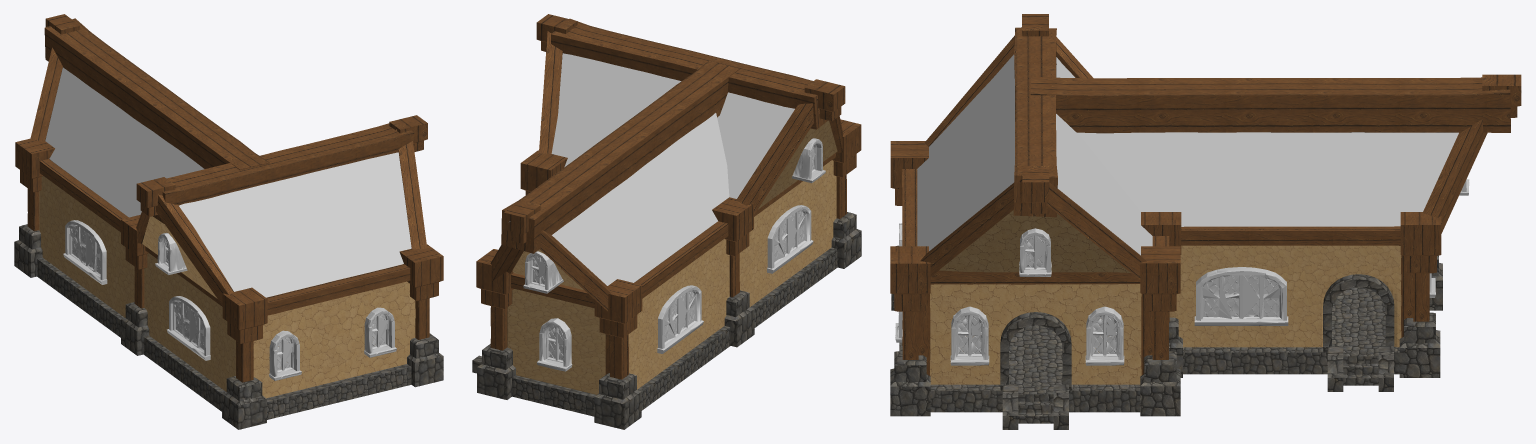
File: HouseTest2.fbx
3 views of the same model, side by side, from view 1: azimuth 30°, elevation 25°; view 2: azimuth 150°, elevation 25°; view 3: azimuth 270°, elevation 25° (orthographic). The views are drawn at different scales.
Parts seen in each view (by area): view 1: Plane, Plane.003, ClayWall.002, ClayWall.001, WoodenBeam.024, StoneFoundation, WoodenBeam.001, WoodenBeam.004, WoodenBeam.011, WoodenSupportFoundation.004, StonePillarFoundation.003, mesh_node.006 (+21 smaller); view 2: Plane.003, ClayWall.002, Plane.001, WoodenBeam.024, WoodenBeam.001, Cube.003, StoneFoundation, WoodenBeam.010, StonePillarFoundation.004, mesh_node.006, mesh_node.013, WoodenSupportFoundation.007 (+24 smaller); view 3: Plane.002, WoodenBeam.024, StoneFoundation, ClayWall, WoodenWall.004, Plane, WoodenBeam.001, ClayWall.006, Plane.001, mesh_node.015, WoodenBeam.019, WoodenBeam.025 (+30 smaller).
Boxes of the visible parts, <box> form: Plane: <box>179,152,411,297</box>; Plane.003: <box>45,67,204,217</box>; ClayWall.002: <box>39,176,235,391</box>; ClayWall.001: <box>253,281,415,398</box>; WoodenBeam.024: <box>44,18,269,170</box>; StoneFoundation: <box>37,257,411,419</box>; WoodenBeam.001: <box>153,123,414,223</box>; WoodenBeam.004: <box>266,264,410,315</box>; WoodenBeam.011: <box>156,194,233,305</box>; WoodenSupportFoundation.004: <box>222,287,267,343</box>; StonePillarFoundation.003: <box>222,376,266,429</box>; mesh_node.006: <box>167,296,210,360</box>; Plane.003: <box>508,113,729,285</box>; ClayWall.002: <box>628,160,836,389</box>; Plane.001: <box>551,53,794,198</box>; WoodenBeam.024: <box>501,60,739,253</box>; WoodenBeam.001: <box>551,18,827,129</box>; Cube.003: <box>507,289,605,394</box>; StoneFoundation: <box>512,247,837,416</box>; WoodenBeam.010: <box>736,96,819,214</box>; StonePillarFoundation.004: <box>594,373,641,429</box>; mesh_node.006: <box>767,205,813,273</box>; mesh_node.013: <box>657,285,703,353</box>; WoodenSupportFoundation.007: <box>594,279,642,337</box>; Plane.002: <box>1078,132,1458,226</box>; WoodenBeam.024: <box>1030,76,1510,133</box>; StoneFoundation: <box>899,287,1399,423</box>; ClayWall: <box>1169,245,1401,347</box>; WoodenWall.004: <box>930,284,1141,384</box>; Plane: <box>917,54,1014,250</box>; WoodenBeam.001: <box>1013,27,1057,217</box>; ClayWall.006: <box>939,210,1130,272</box>; Plane.001: <box>1056,57,1152,255</box>; mesh_node.015: <box>1194,267,1288,325</box>; WoodenBeam.019: <box>1181,226,1400,245</box>; WoodenBeam.025: <box>1422,119,1487,233</box>.
Bounding box in the file's own units: 1806 × 1285 × 2861.
